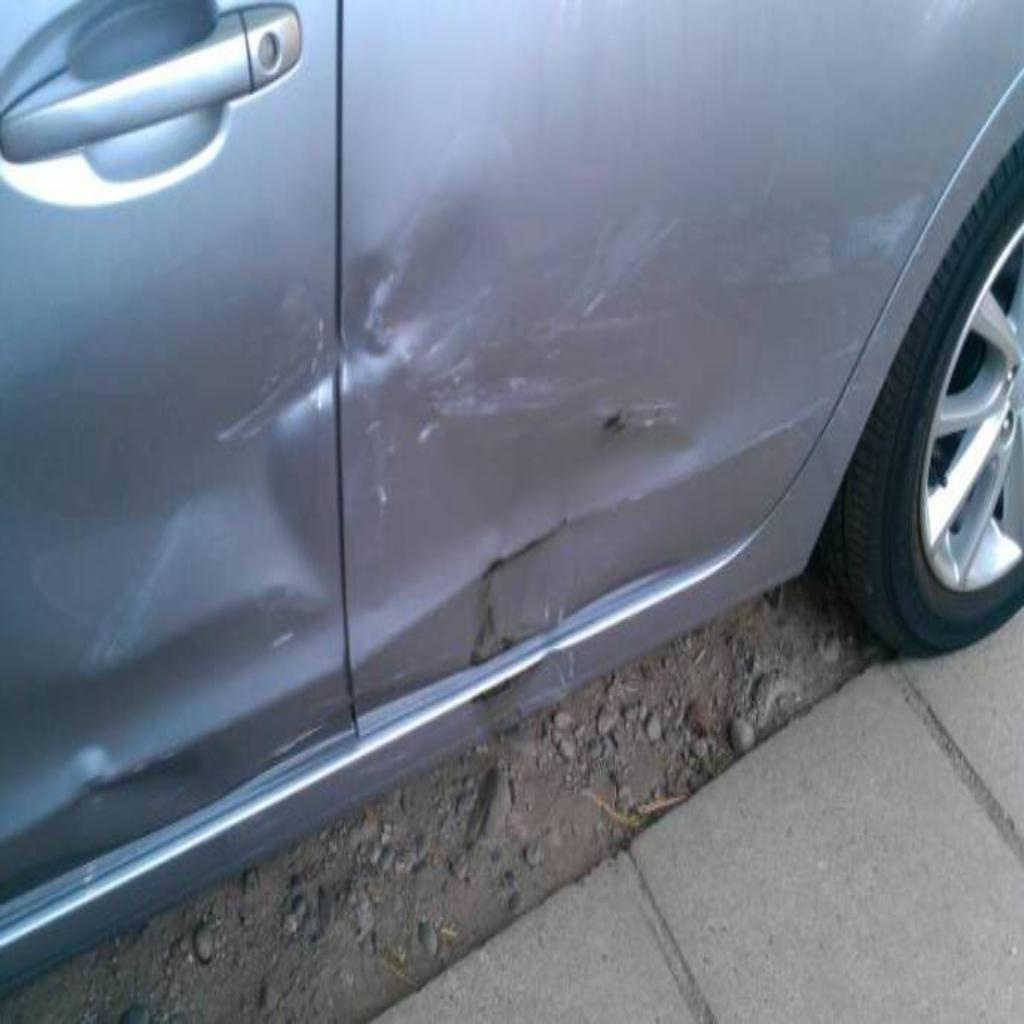Dent: (47, 224, 690, 839)
Scratch: (339, 299, 573, 457)
